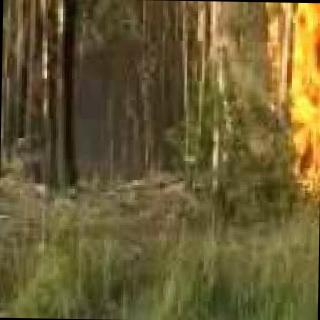fire: (277, 109, 320, 228), (269, 2, 320, 100)
